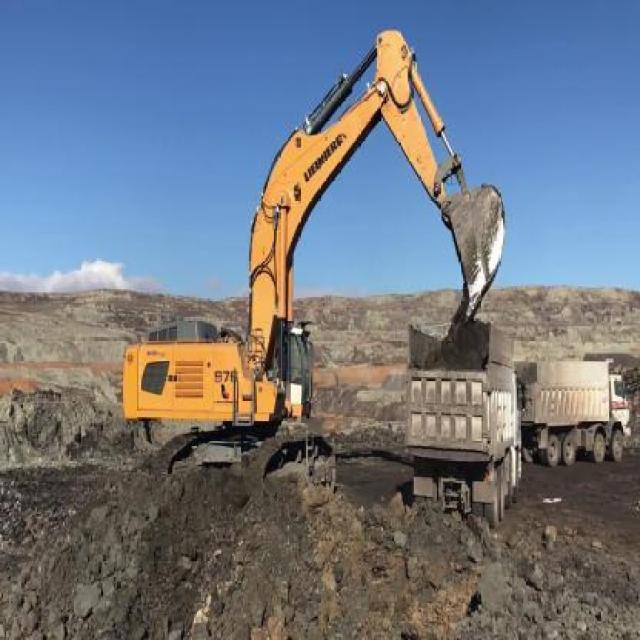dump_truck: (401, 319, 521, 524), (515, 354, 631, 466)
excavator: (120, 18, 508, 500)
